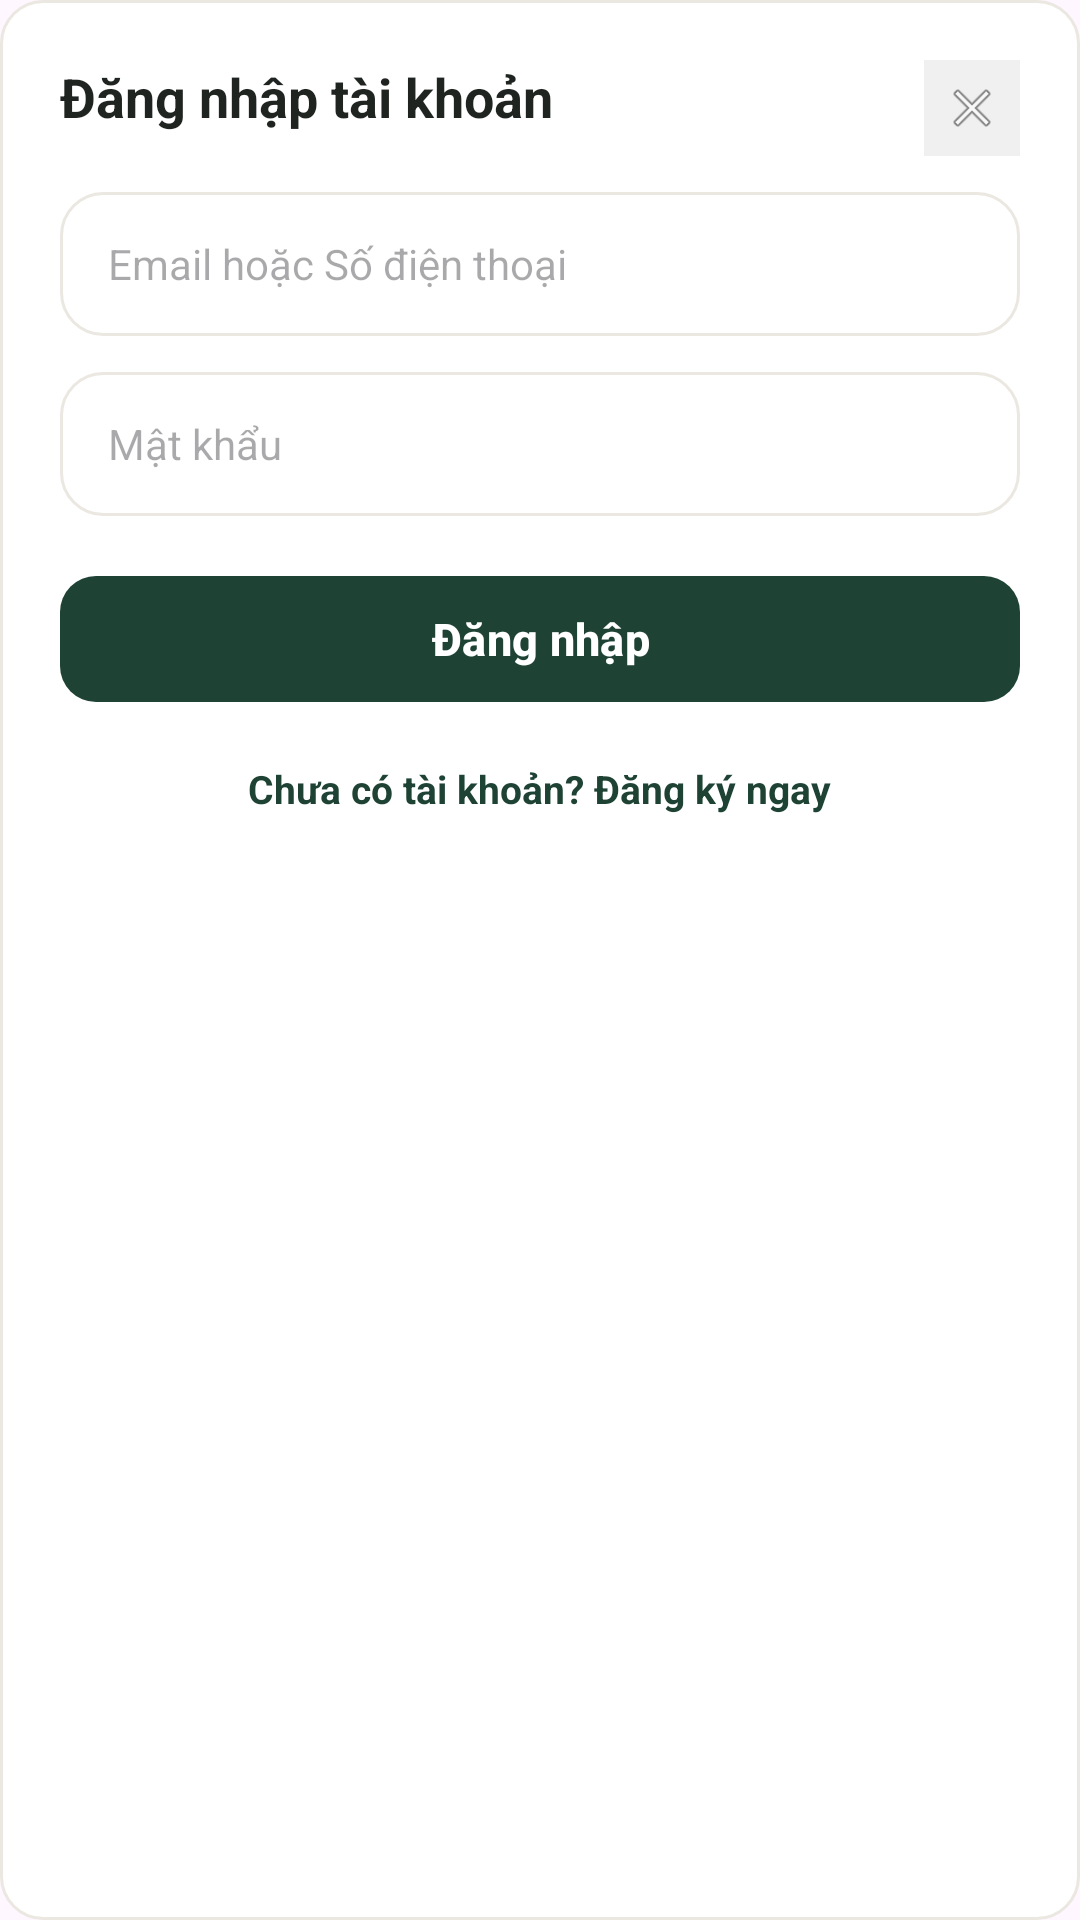

Point at icon controls on the screen. Image size 1080w x 1920h, points as (x,y).
Close: (972,108)
